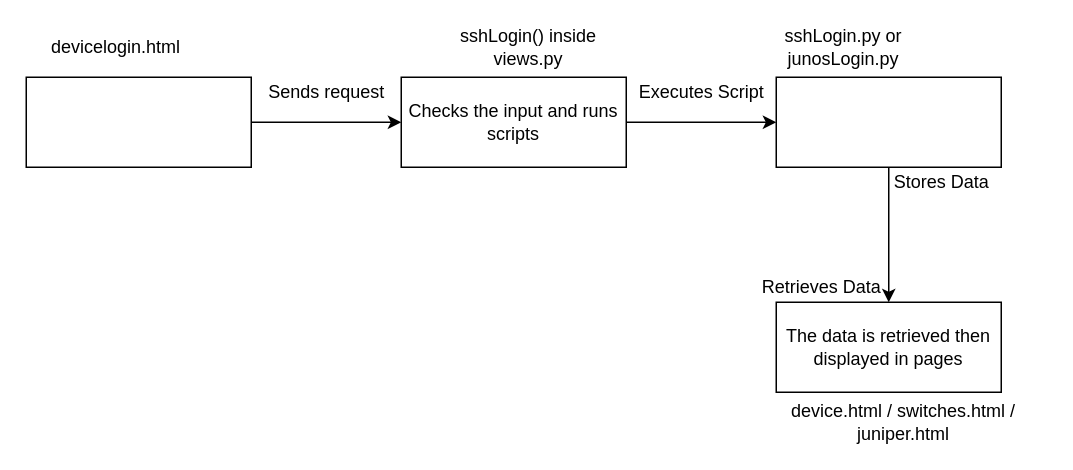
Image size: 1073x470. Some labels were removed from this diagram. Each missing label, with the centre of its shape:
Scripts send "show" commands and store the output: point 888,121
User inputs SSH credentials: point 138,121
